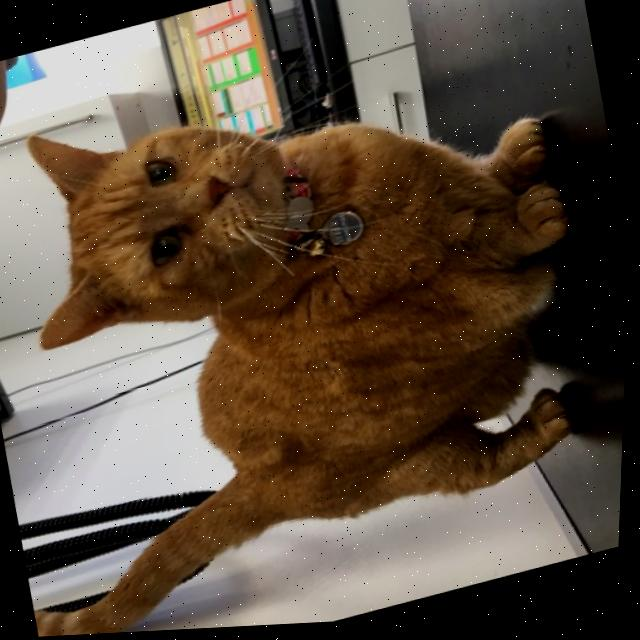Munchkin: (0, 2, 639, 640)
